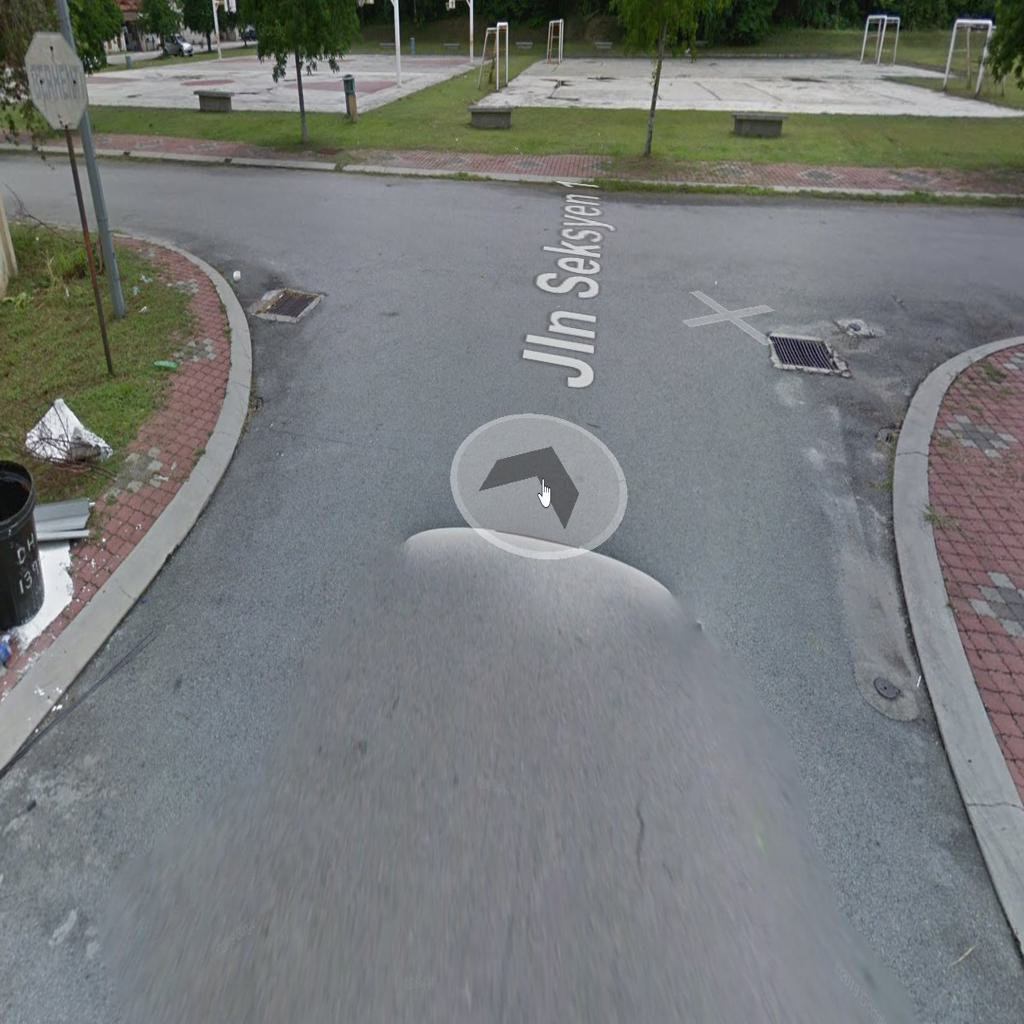Junction: (25, 125, 388, 386), (739, 151, 1013, 472)
